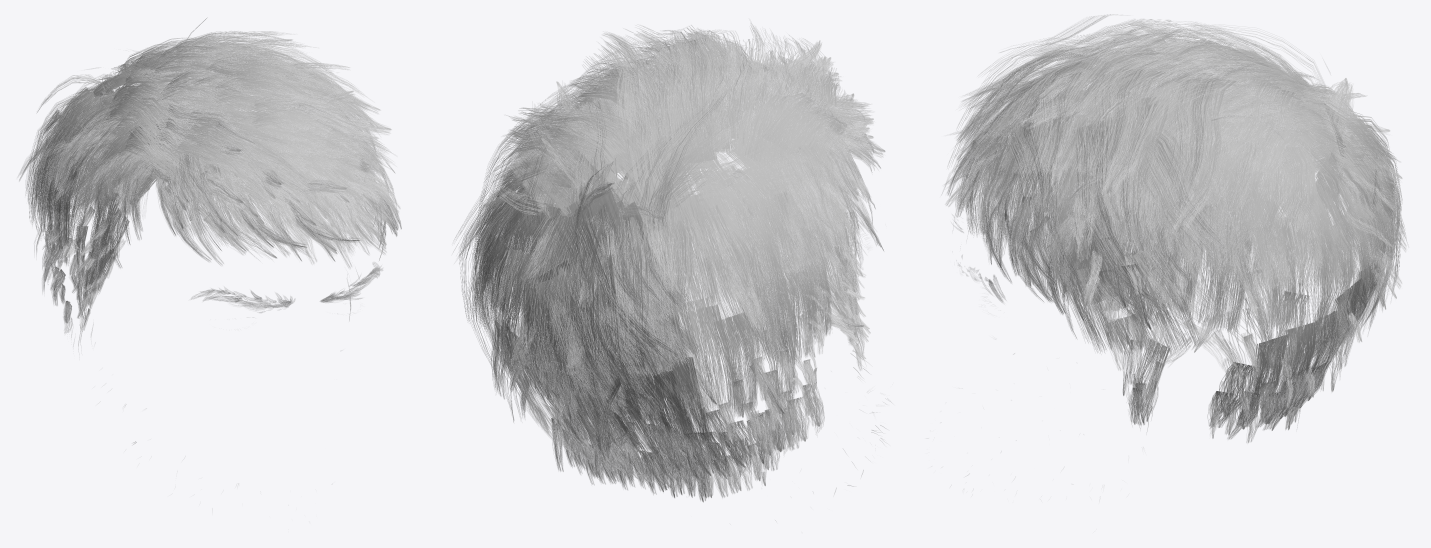
The model's file is hair.glb.
3 renders of one model, left to right at view 1: azimuth 30°, elevation 25°; view 2: azimuth 150°, elevation 25°; view 3: azimuth 270°, elevation 25°, orthographic. The views are drawn at different scales.
Visible parts, largest first — view 1: Hair1; view 2: Hair1; view 3: Hair1.
Part boxes in pixels (box(x1,y1,x2,y2)): Hair1: box(18, 18, 401, 510); Hair1: box(453, 19, 890, 502); Hair1: box(942, 14, 1408, 499).
Size of the model in its own units: 1.39 by 1.9 by 1.7.
Materials: 1 (1 with a texture image).
